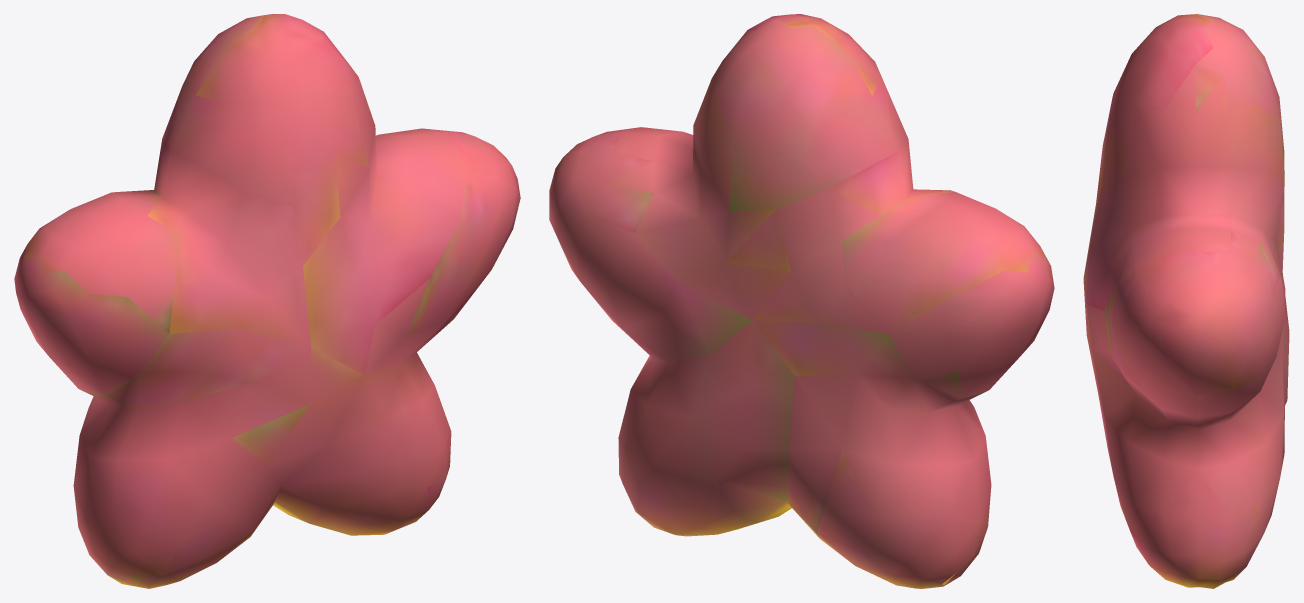
File: hat_star_pink.glb
The picture shows the model from 3 angles, left to right: view 1: azimuth 30°, elevation 25°; view 2: azimuth 150°, elevation 25°; view 3: azimuth 270°, elevation 25°; orthographic projection. The views are drawn at different scales.
Bounding box in the file's own units: 0.3038 × 0.3193 × 0.1162.
Materials: 1 (1 with a texture image).
